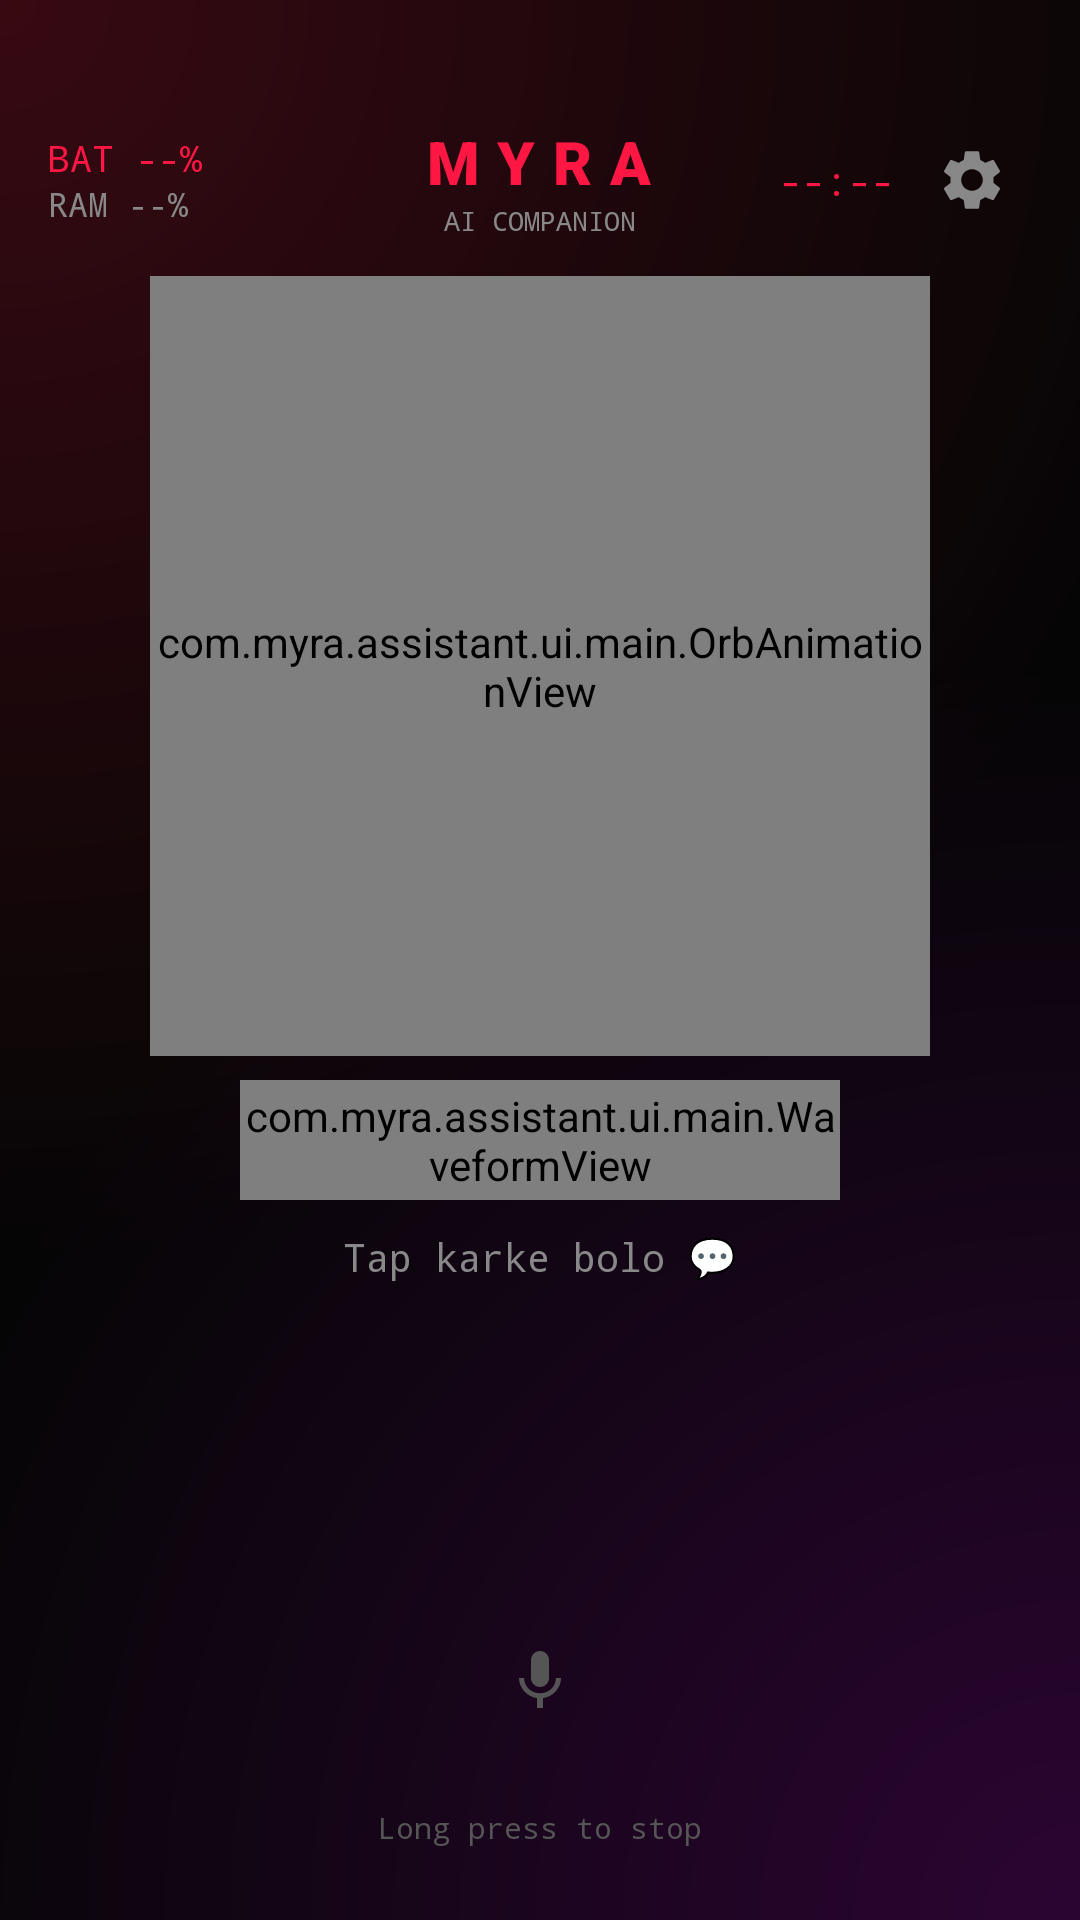

Named icons in this screenshot (1080px×1920px) and their bounding boxes, (x1, y1, x2, y2):
Mic: (519, 1651, 561, 1708)
Settings: (944, 151, 1000, 209)
